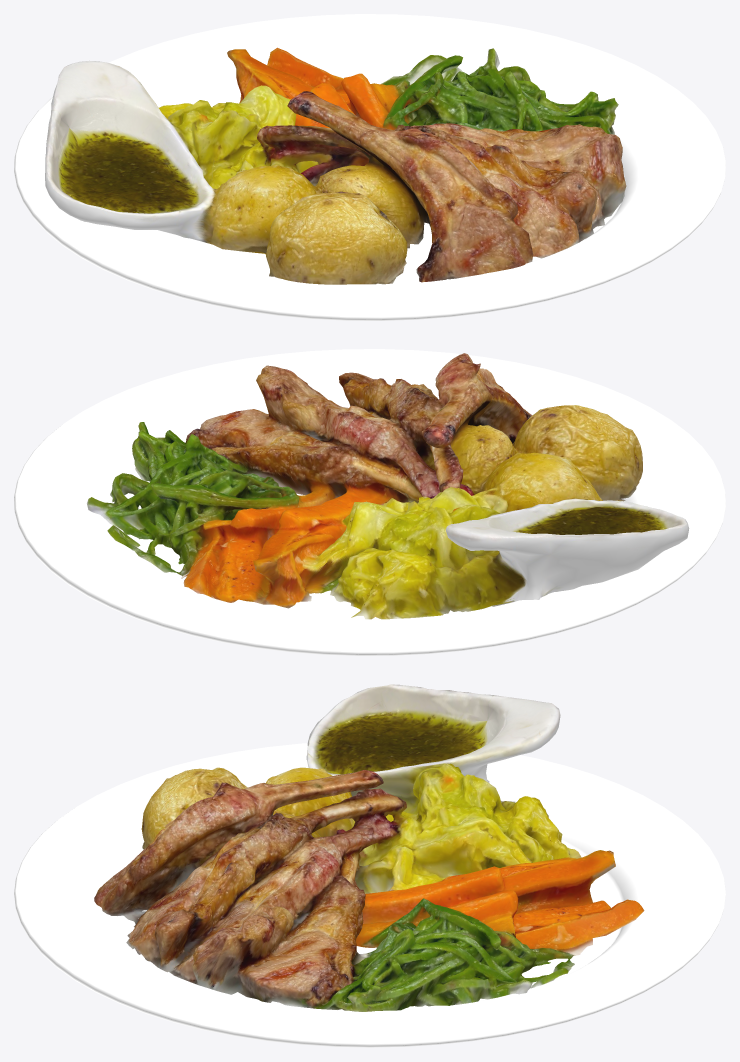
File: CarreBorrego.glb
3 views of the same model, one above another, from view 1: azimuth 30°, elevation 25°; view 2: azimuth 150°, elevation 25°; view 3: azimuth 270°, elevation 25° (orthographic).
Parts seen in each view (by area): view 1: Mesh_0, Circle; view 2: Mesh_0, Circle; view 3: Mesh_0, Circle.
Part boxes in pixels (x1,y1,x2,y2): Mesh_0: [45, 47, 626, 284]; Circle: [14, 14, 725, 320]; Mesh_0: [87, 353, 689, 619]; Circle: [14, 349, 725, 655]; Mesh_0: [94, 684, 644, 1011]; Circle: [14, 743, 725, 1047].
Bounding box in the file's own units: 0.9158 × 0.1743 × 0.9041.
Materials: 2 (1 with a texture image).
